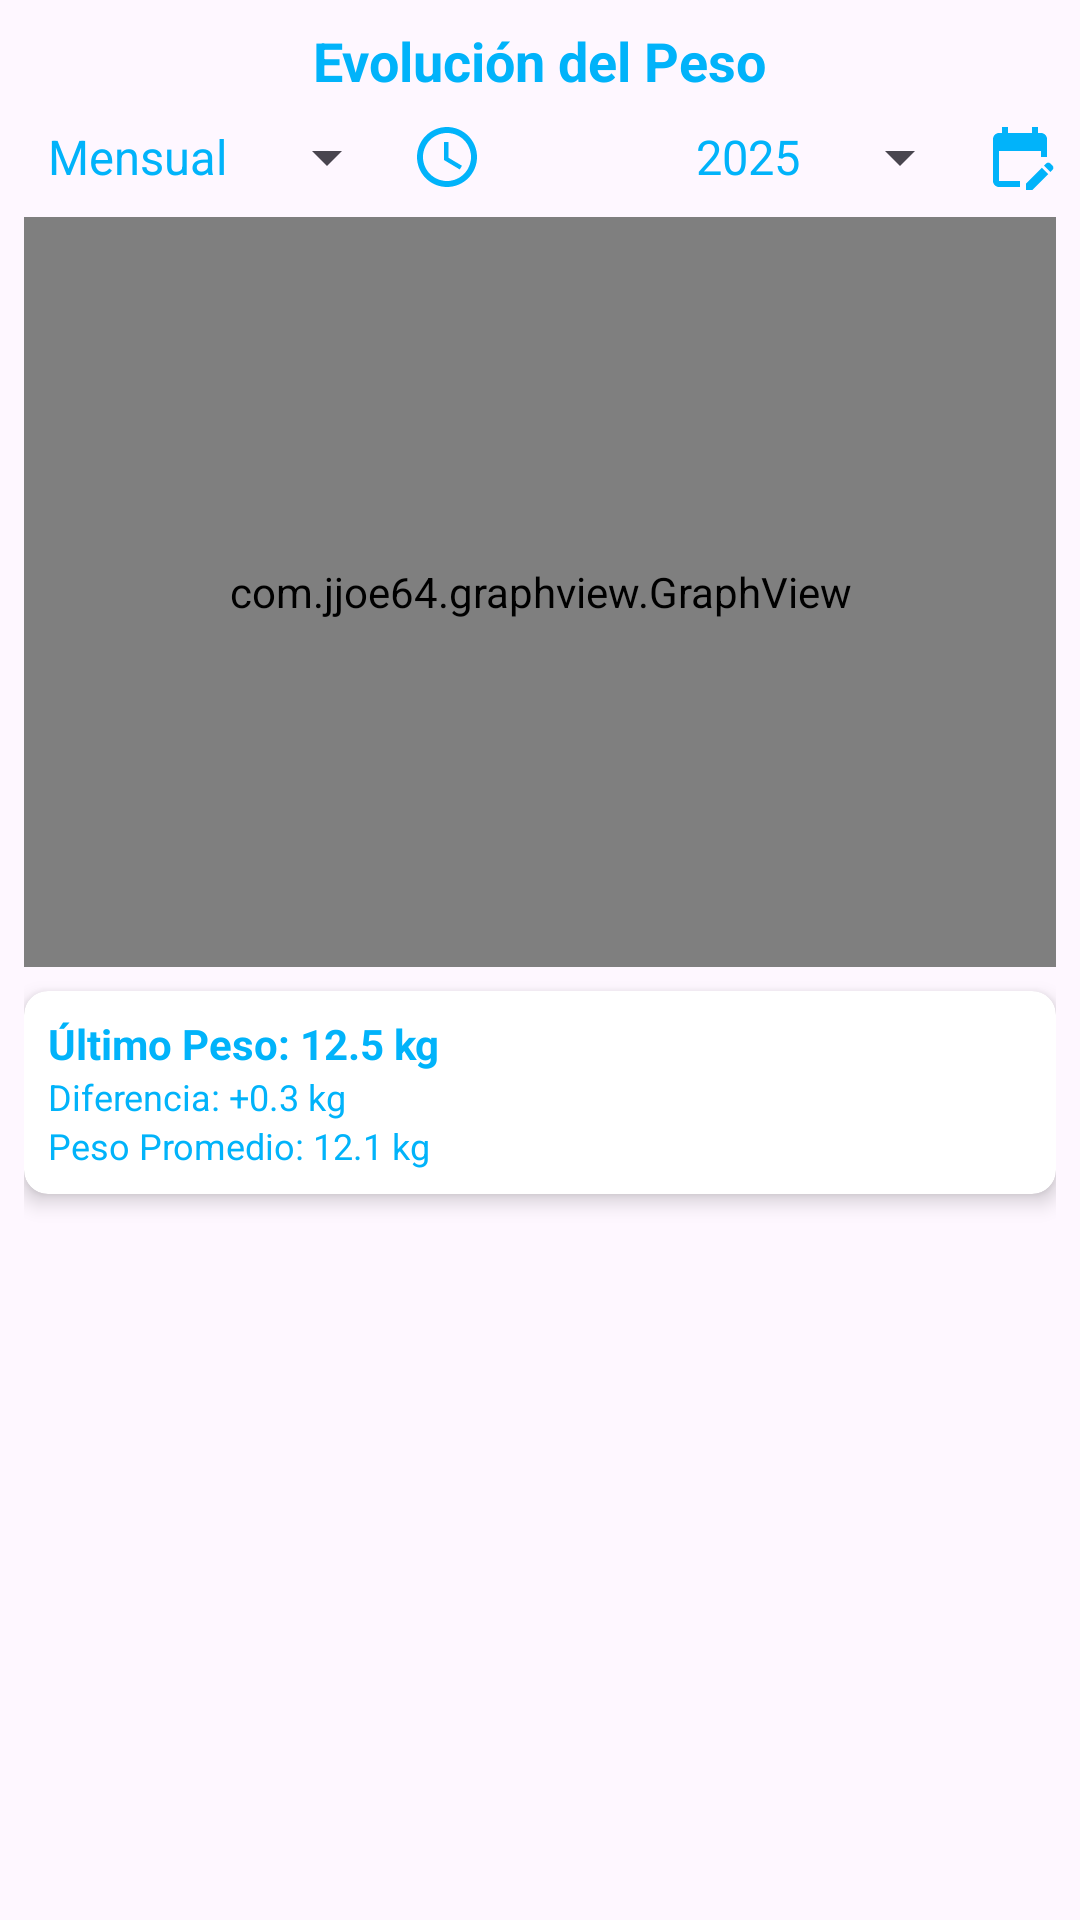

Named icons in this screenshot (1080w x 1920h) and their bounding boxes, (x1, y1, x2, y2):
Icono de calendario: (993, 127, 1054, 190)
Icono de periodo: (417, 127, 477, 187)
